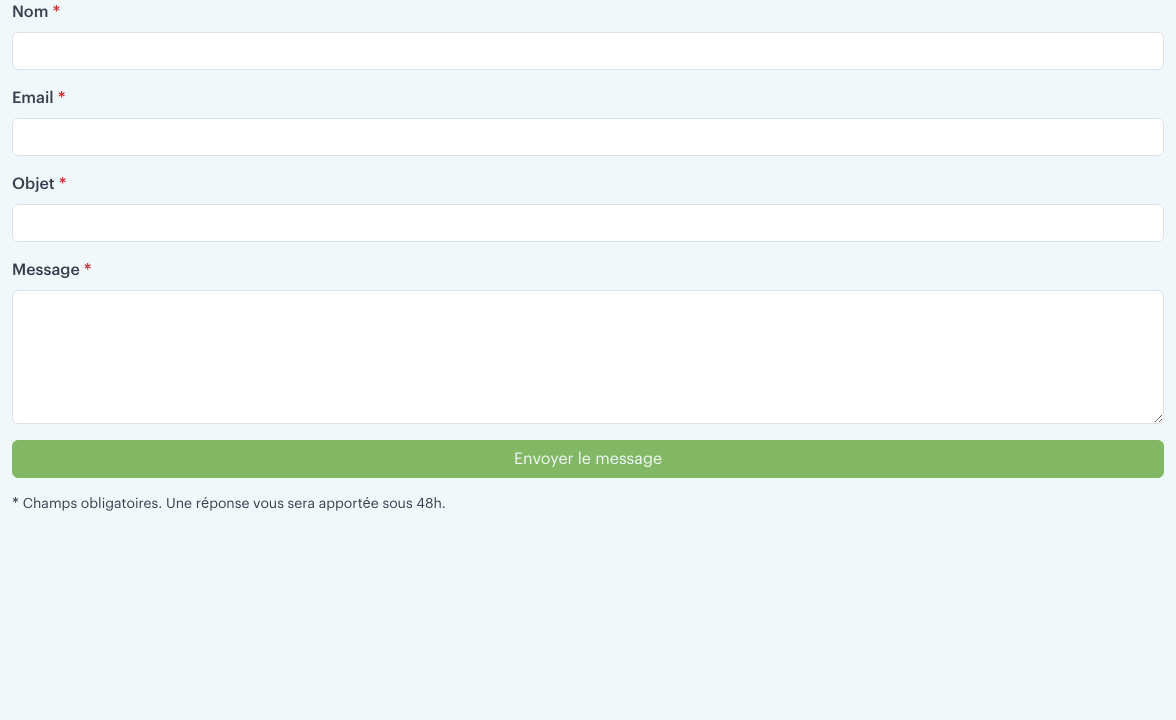
it: ContactForm › rejette un message trop court
Type "Jean Dupont" into the field labelled "Nom *".
click(588, 51); type("Jean Dupont")  # box top-left (12, 32), bottom-right (1164, 70)
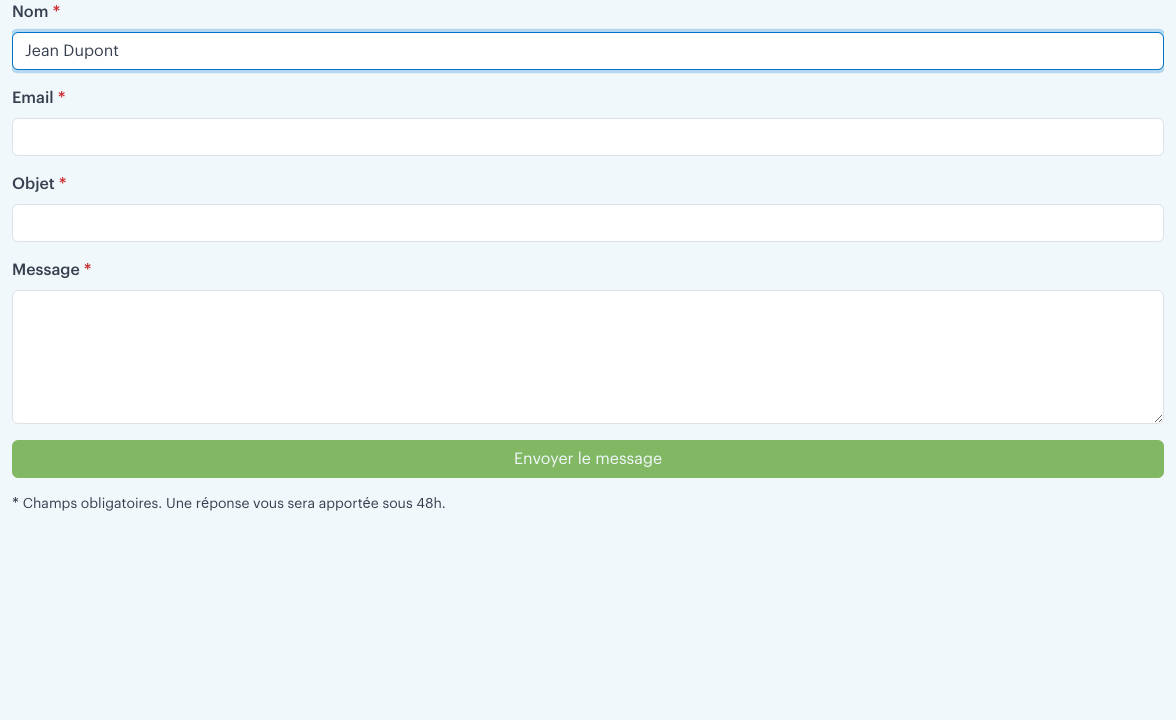
Type "jean@example.com" into the field labelled "Email *".
click(588, 137); type("jean@example.com")  # box top-left (12, 118), bottom-right (1164, 156)
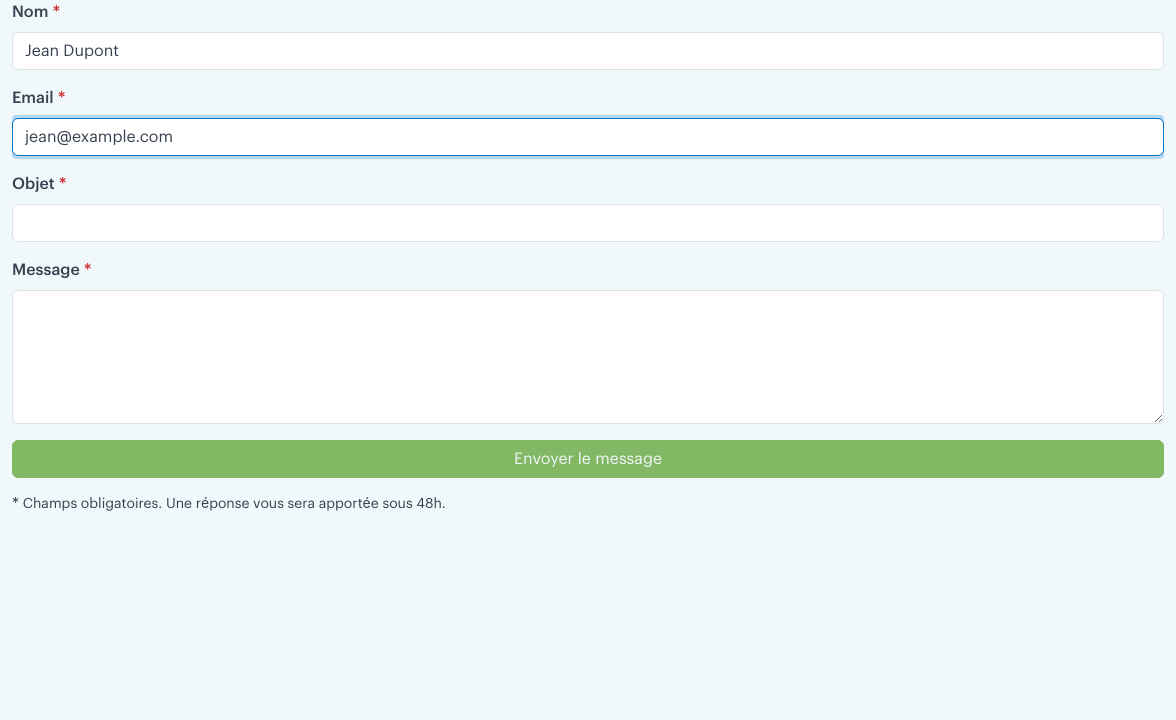
Type "Devis" into the field labelled "Objet *".
click(588, 223); type("Devis")  # box top-left (12, 204), bottom-right (1164, 242)
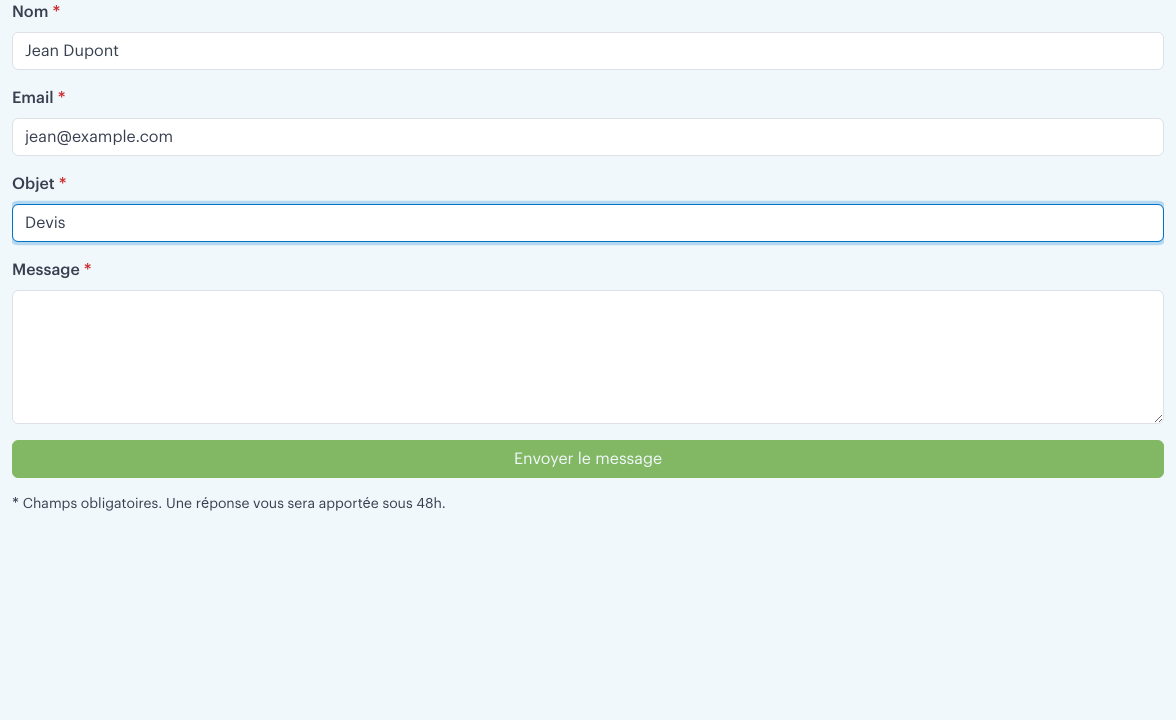
Type "Court" into the text box labelled "Message *".
click(588, 357); type("Court")  # box top-left (12, 290), bottom-right (1164, 424)
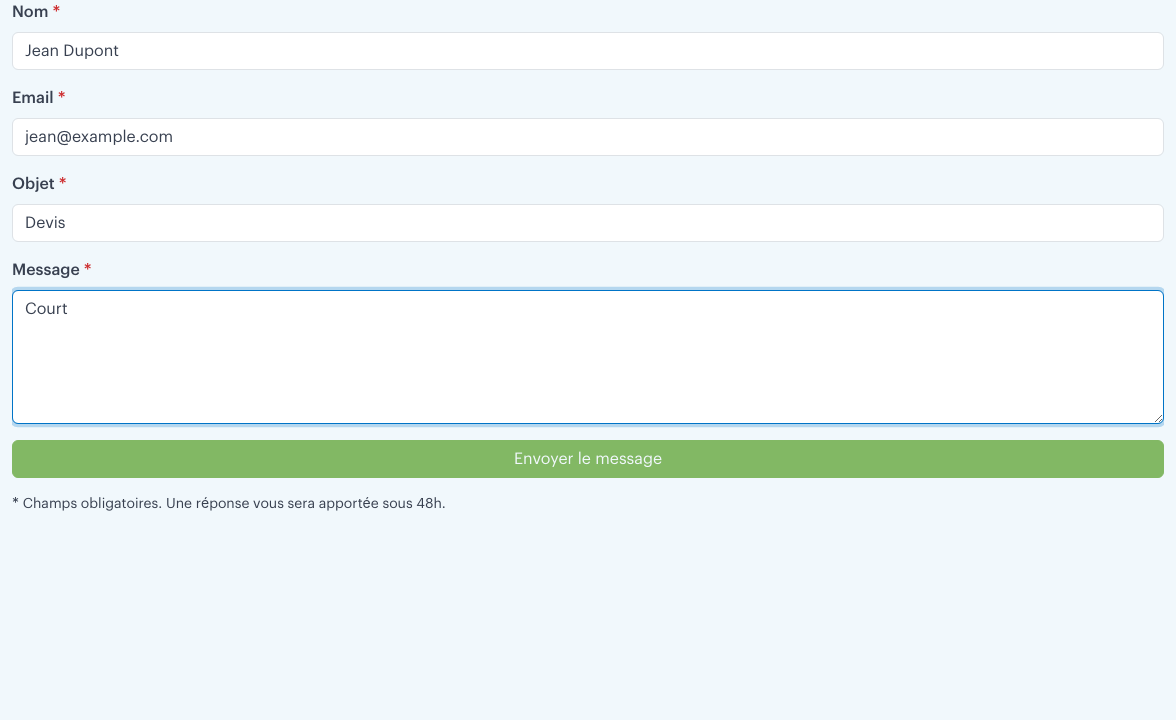
Click the button "Envoyer le message".
click(588, 459)  # box top-left (12, 440), bottom-right (1164, 478)
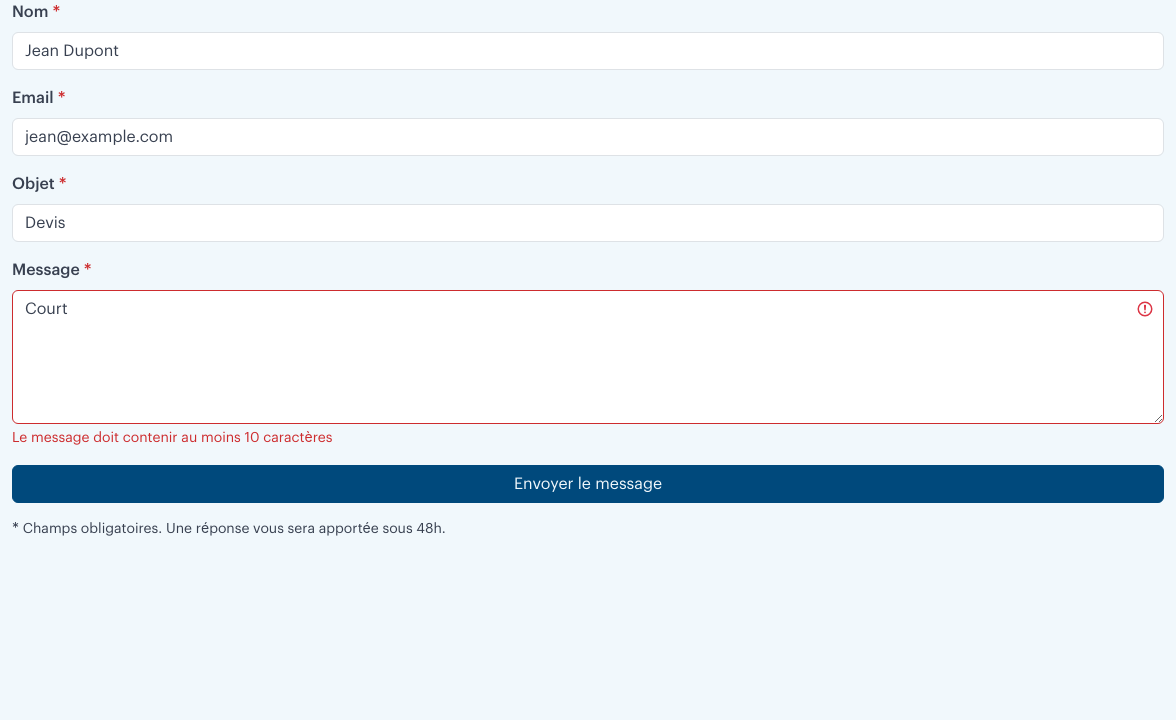
Expected: the text "Le message doit contenir au moins 10 caractères" is shown, top-left (12, 431), bottom-right (332, 445)
